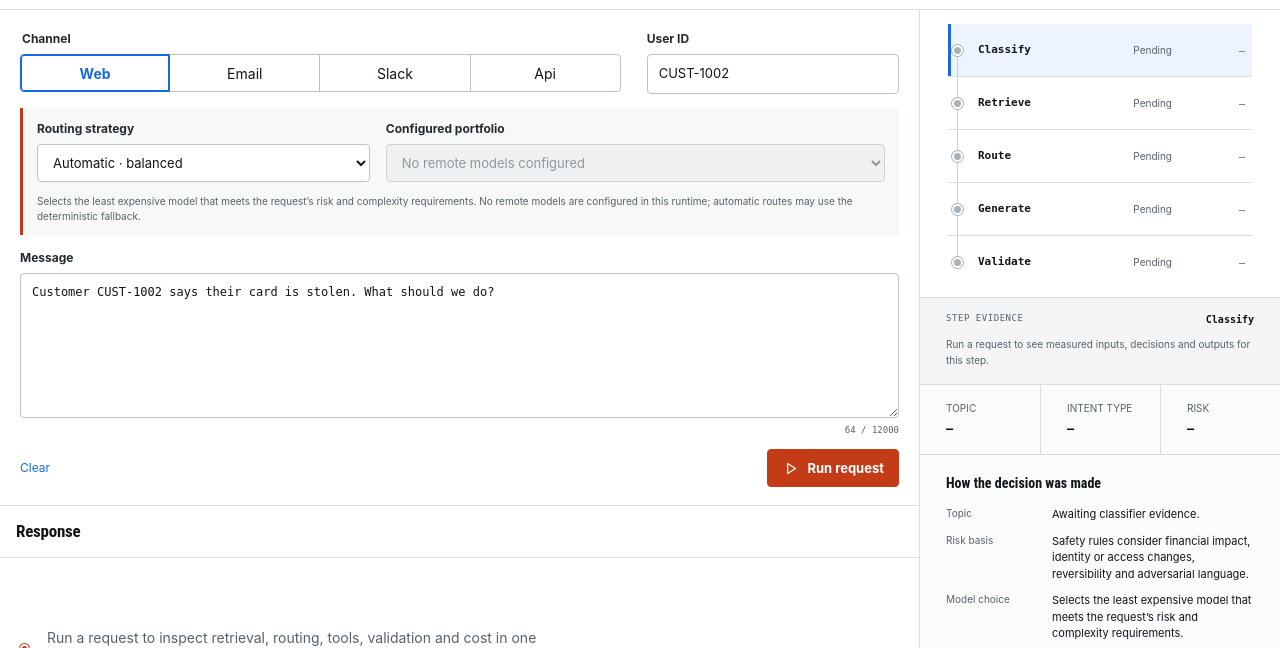
Scenario: Operations surfaces › renders readable grounded tables and exposes pipeline, sources, tool arguments and results
Click the button "Run request" at coordinates (833, 468), box [767,449,899,487]
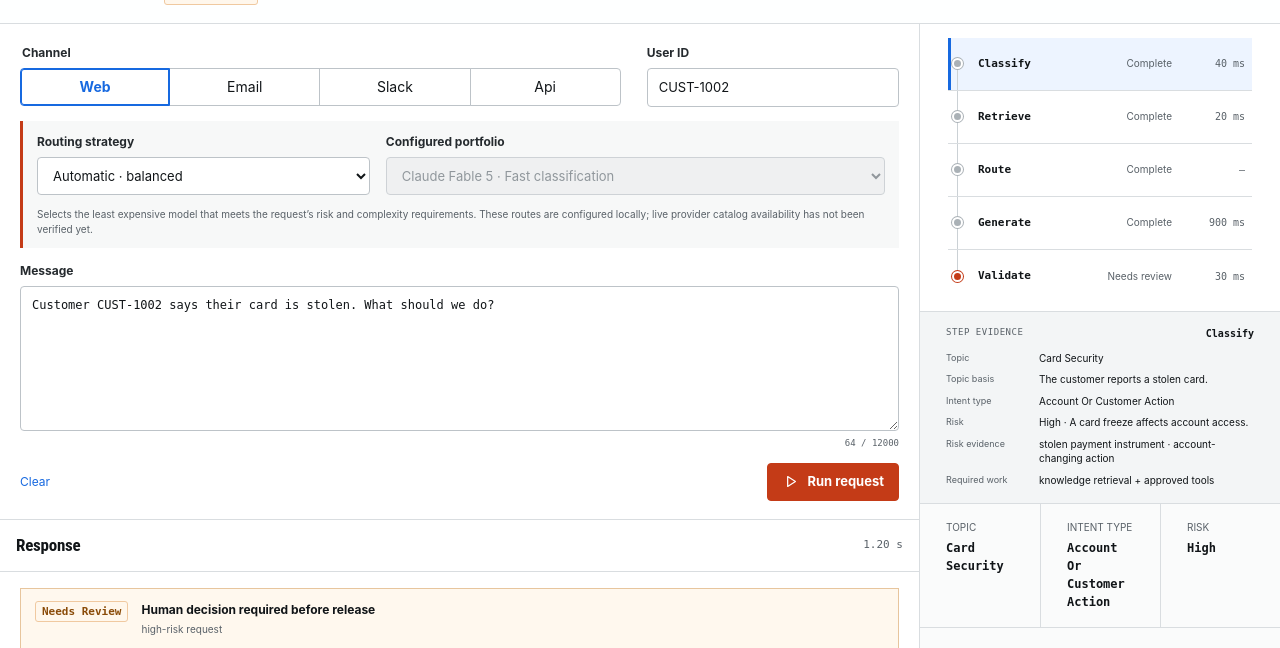
Expected: the text "Human decision required before release" is shown, [142,602,375,617]
Click the button "Retrieve Complete 20 ms" at coordinates (1004, 116), box [948,91,1252,144]
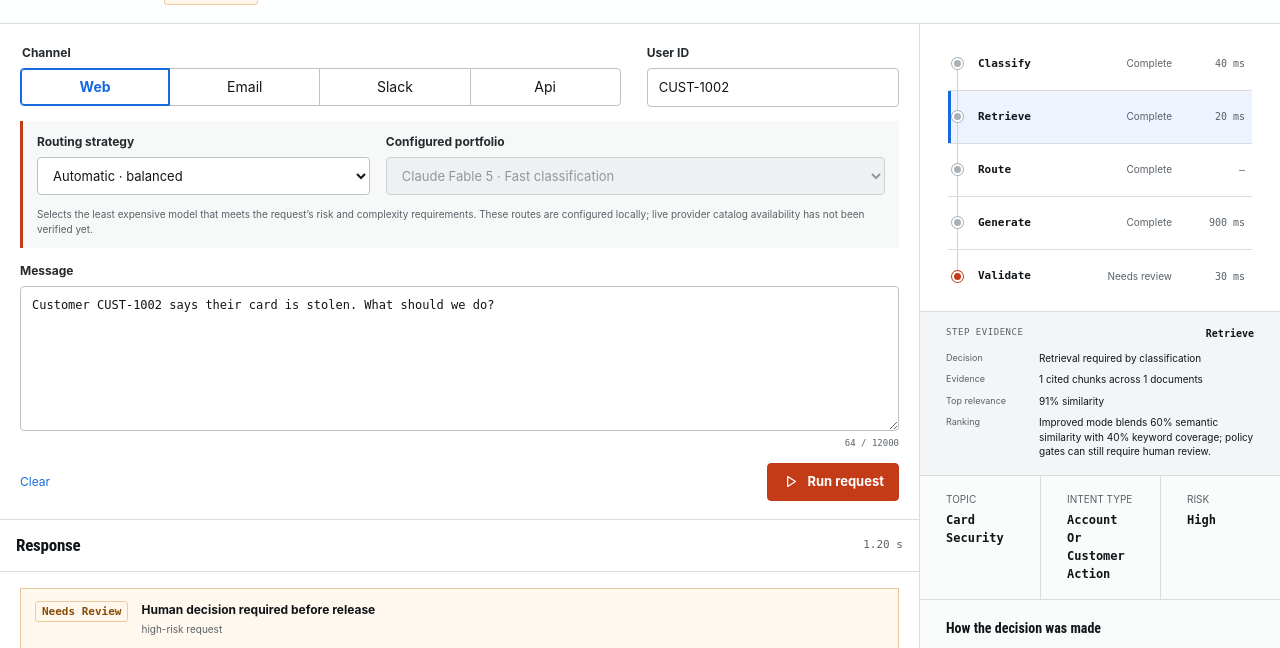
Expected: the text "91% similarity" is shown, [1039,395,1104,407]
Click the button "Route Complete —" at coordinates (995, 169), box [948,144,1252,197]
(page scrolled)
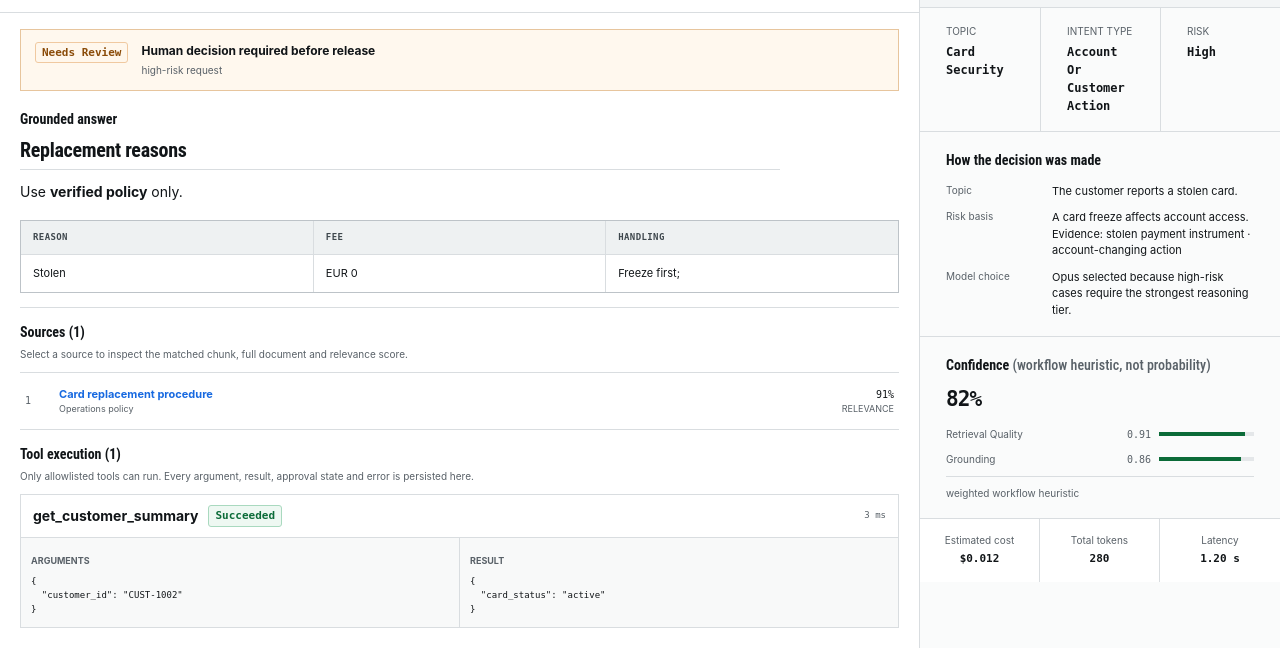
Click the button "Card replacement procedure Operations policy" at coordinates (136, 394), box [59,381,814,421]
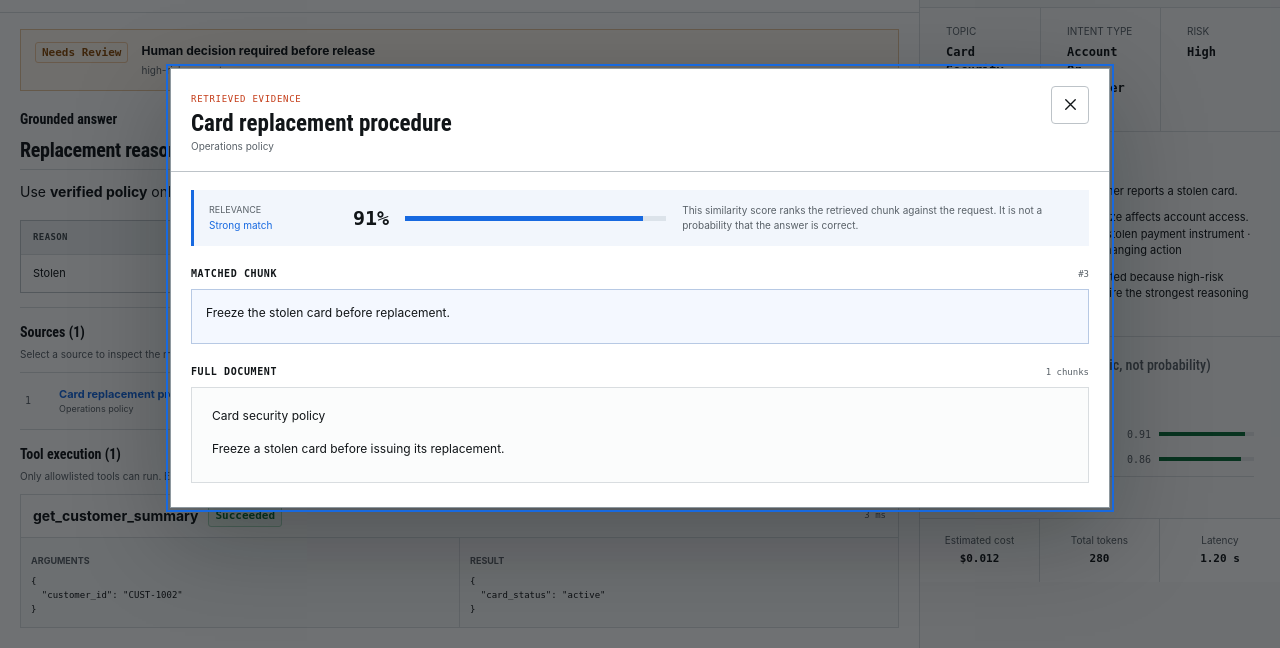
Expected: the heading "Matched chunk" is shown, [191,266,277,281]
Expected: the text "Card security policy" is shown, [212,408,325,423]
